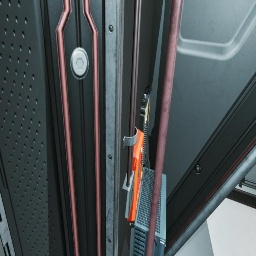EmergencyPhone ,: (139, 84, 152, 181)
FireAlarm ,: (127, 129, 144, 221)
